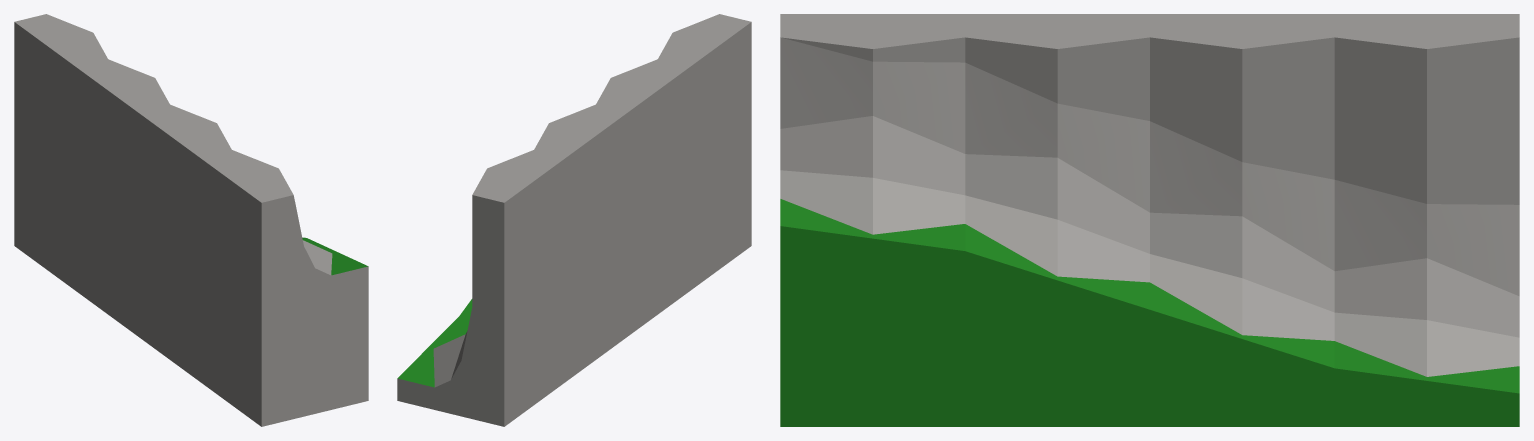
Rendered from Cliff_Base_Hill_Gentle.obj.
3 views of the same model, side by side, from view 1: azimuth 30°, elevation 25°; view 2: azimuth 150°, elevation 25°; view 3: azimuth 270°, elevation 25° (orthographic). The views are drawn at different scales.
Visible parts, largest first — view 1: object1; view 2: object1; view 3: object1.
Part boxes in pixels (x1,y1,x2,y2): object1: (14, 14, 368, 426); object1: (397, 14, 751, 426); object1: (780, 14, 1519, 426).
Size of the model in its own units: 1 by 2 by 4.
